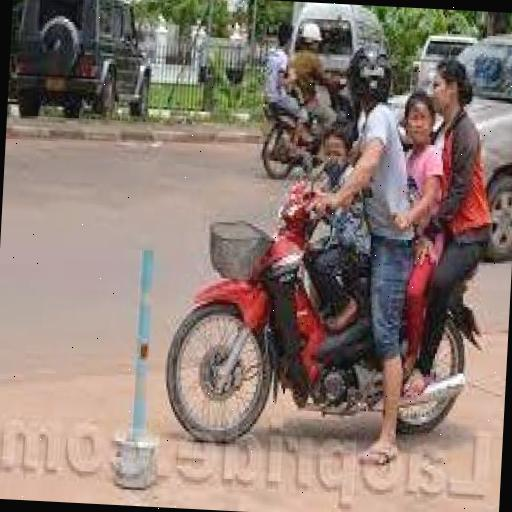helmet: (334, 40, 402, 155)
triple riding: (178, 39, 508, 455)
